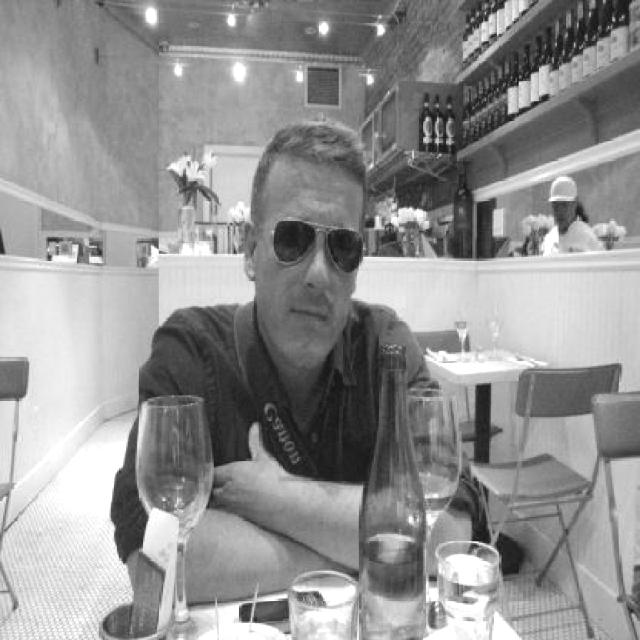face_nomask: (267, 218, 365, 334)
glasses: (273, 205, 367, 278)
hand_noglove: (197, 420, 272, 514)
head_nohelmet: (259, 127, 370, 195)
person: (108, 125, 444, 602)
